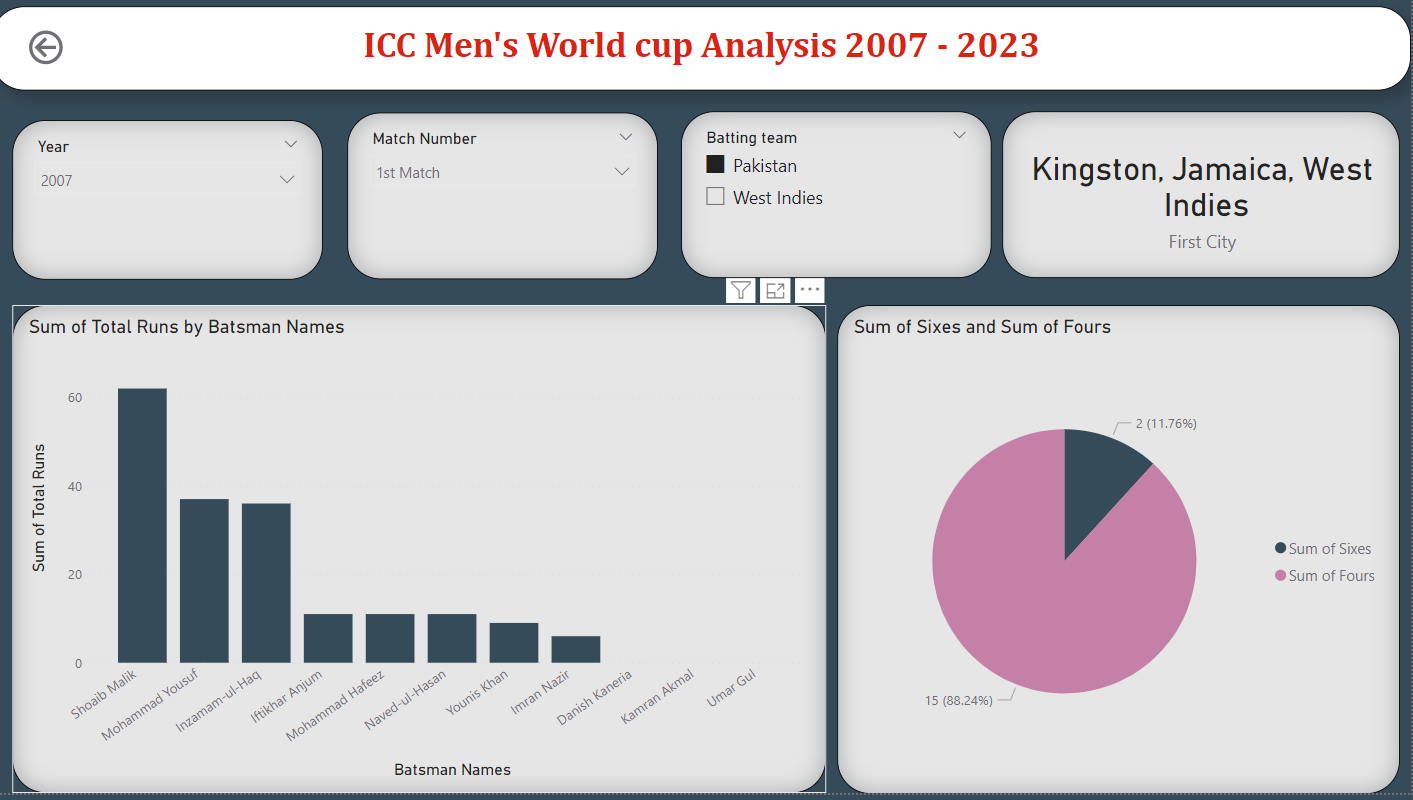

This screenshot's page, from the dashboard's own definition file:
{"tool":"powerbi","page":{"name":"Players Contributions","canvas":[1280,720],"ordinal":1},"visuals":[{"type":"slicer","fields":{"Values":["Complete_Batting_Data_2007_To_2.Year"]},"box":[19.6,112.5,279.9,144.2],"z":0},{"type":"slicer","fields":{"Values":["Complete_Batting_Data_2007_To_2.Match Number"]},"box":[321.5,106.3,279.9,150.4],"z":1000},{"type":"columnChart","fields":{"Category":["Complete_Batting_Data_2007_To_2.Batsman Names"],"Y":["Sum(Complete_Batting_Data_2007_To_2.Total Runs)"]},"box":[19.6,279.9,733.4,440.1],"z":2000},{"type":"slicer","fields":{"Values":["Complete_Batting_Data_2007_To_2.Batting team"]},"box":[622.2,105.1,279.9,150.4],"z":3000},{"type":"pieChart","fields":{"Y":["Sum(Complete_Batting_Data_2007_To_2.Sixes)","Sum(Complete_Batting_Data_2007_To_2.Fours)"]},"box":[762.8,279.4,507,440.6],"z":4000},{"type":"card","fields":{"Values":["Min(Complete_Batting_Data_2007_To_2.City)"]},"box":[911.9,105.1,358.2,150.4],"z":5000},{"type":"textbox","box":[0,9.8,1279.9,75.8],"z":7500},{"type":"actionButton","box":[29.3,26.9,100.2,40.3],"z":8000}]}

Visuals, with their boxes in screenshot pixels (x1, y1, x2, y2), scaled from the page's 1280x720 canvas onto the 1413x800 screenshot:
slicer - Complete_Batting_Data_2007_To_2.Year: <region>22, 125, 331, 285</region>
slicer - Complete_Batting_Data_2007_To_2.Match Number: <region>355, 118, 664, 285</region>
columnChart - Complete_Batting_Data_2007_To_2.Batsman Names x Sum(Complete_Batting_Data_2007_To_2.Total Runs): <region>22, 311, 831, 799</region>
slicer - Complete_Batting_Data_2007_To_2.Batting team: <region>687, 117, 996, 284</region>
pieChart - Sum(Complete_Batting_Data_2007_To_2.Sixes) x Sum(Complete_Batting_Data_2007_To_2.Fours): <region>842, 310, 1402, 799</region>
card - Min(Complete_Batting_Data_2007_To_2.City): <region>1007, 117, 1402, 284</region>
textbox: <region>0, 11, 1412, 95</region>
actionButton: <region>32, 30, 143, 75</region>
